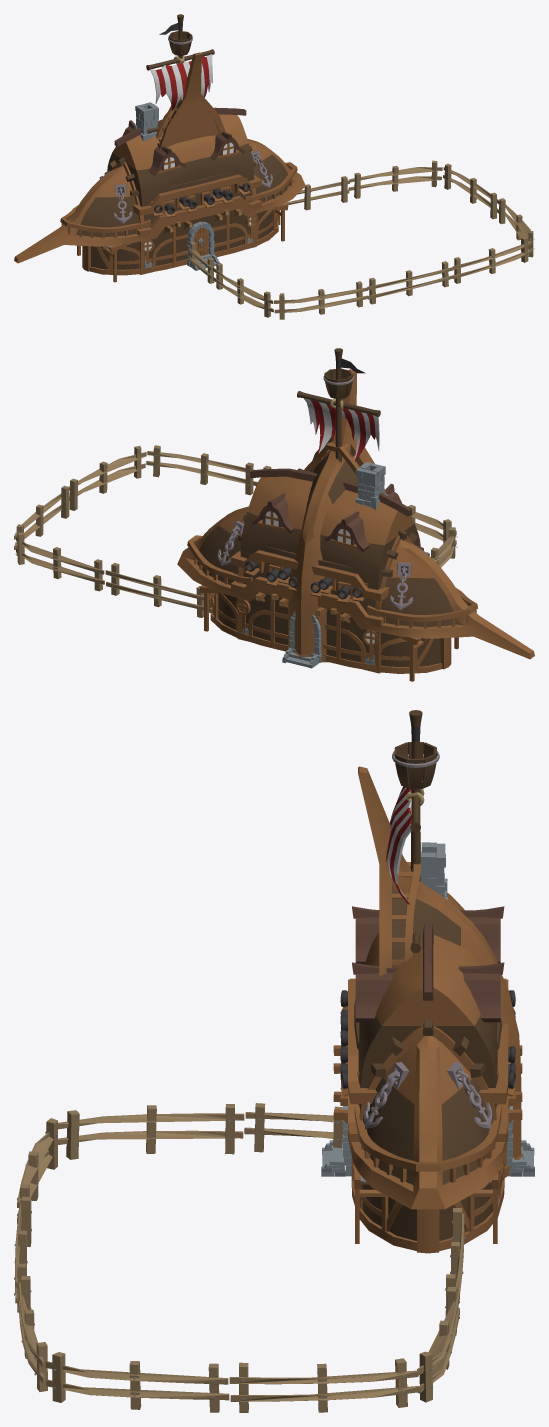
File: buildings.glb
The picture shows the model from 3 angles, top to bottom: view 1: azimuth 30°, elevation 25°; view 2: azimuth 150°, elevation 25°; view 3: azimuth 270°, elevation 25°; orthographic projection. The views are drawn at different scales.
Parts seen in each view (by area): view 1: House, Farm, Building, Building.001; view 2: House, Building, Farm, Building.001; view 3: House, Farm, Building, Building.001.
Part boxes in pixels (bbox=[...]): House: bbox=[14, 102, 305, 275]; Farm: bbox=[188, 160, 534, 319]; Building: bbox=[77, 14, 288, 282]; Building.001: bbox=[156, 52, 225, 149]; House: bbox=[177, 462, 534, 673]; Building: bbox=[199, 348, 458, 681]; Farm: bbox=[14, 445, 457, 617]; Building.001: bbox=[287, 369, 386, 662]; House: bbox=[321, 842, 534, 1253]; Farm: bbox=[14, 1103, 465, 1412]; Building: bbox=[340, 710, 515, 1243]; Building.001: bbox=[358, 766, 523, 1177].
Size of the model in its own units: 20.58 by 10.68 by 11.2.
Materials: 7 (4 with a texture image).
